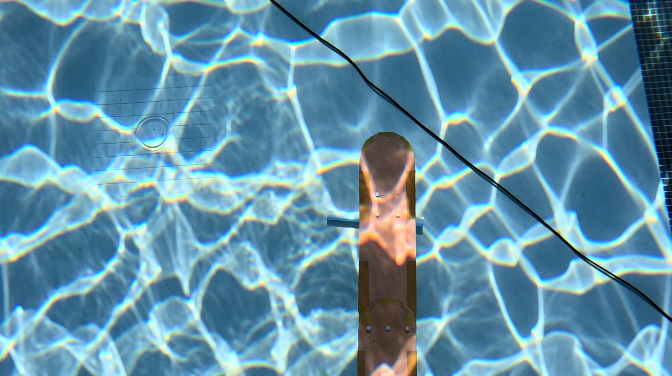pathmarker: (358, 132, 416, 375)
